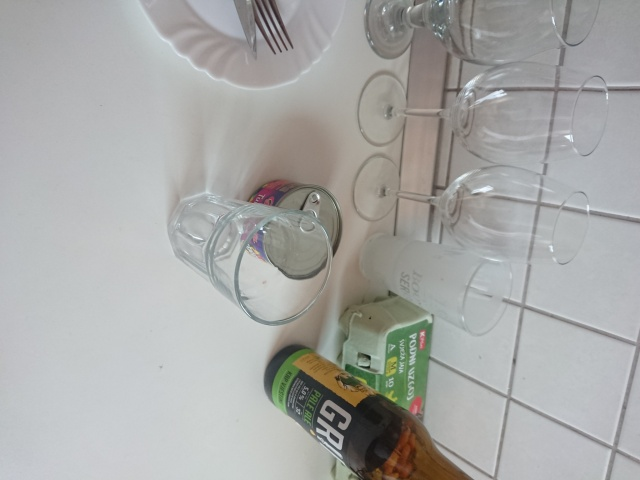Giana Tuna Salad Mexico 185g: (237, 177, 344, 282)
